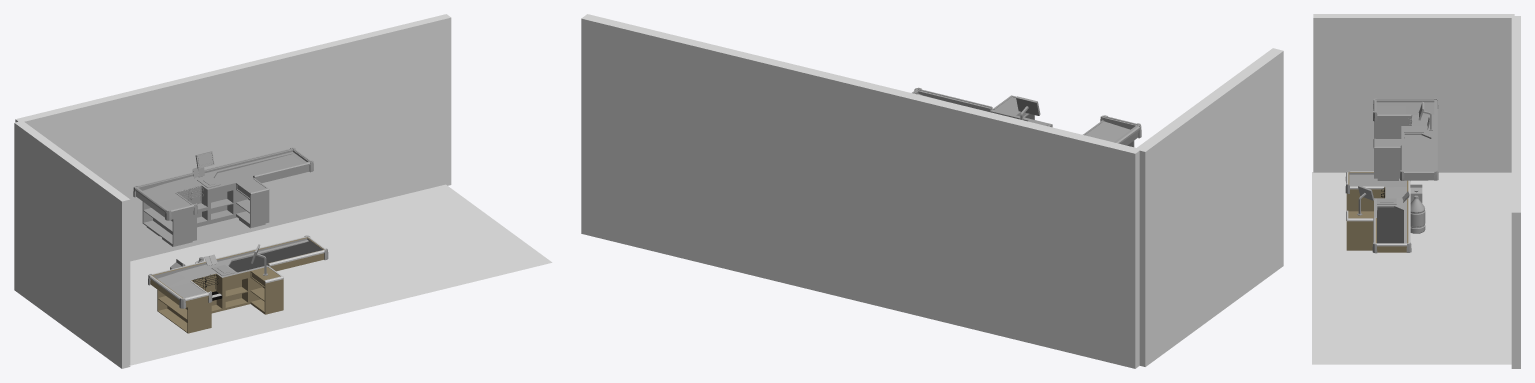
File: counter.fbx
3 renders of one model, left to right at view 1: azimuth 30°, elevation 25°; view 2: azimuth 150°, elevation 25°; view 3: azimuth 270°, elevation 25°, orthographic. The views are drawn at different scales.
Visible parts, largest first — view 1: pCube2, pPlane5, pCube3, pasted__polySurface1, polySurface1; view 2: pCube2, pCube3, pasted__polySurface1; view 3: pPlane5, pCube3, pasted__polySurface1, polySurface1, pCube2, Oil, pasted__corners1, MilkCarton, corners1.
Boxes of the visible parts, bbox=[...] form: pCube2: bbox=[15, 14, 451, 261]; pPlane5: bbox=[129, 184, 552, 365]; pCube3: bbox=[14, 121, 130, 368]; pasted__polySurface1: bbox=[135, 149, 309, 246]; polySurface1: bbox=[150, 237, 324, 333]; pCube2: bbox=[581, 14, 1141, 368]; pCube3: bbox=[1137, 48, 1283, 366]; pasted__polySurface1: bbox=[914, 90, 1138, 147]; pPlane5: bbox=[1312, 172, 1511, 364]; pCube3: bbox=[1313, 14, 1514, 172]; pasted__polySurface1: bbox=[1374, 100, 1436, 180]; polySurface1: bbox=[1346, 172, 1408, 252]; pCube2: bbox=[1511, 16, 1520, 368]; Oil: bbox=[1410, 195, 1425, 233]; pasted__corners1: bbox=[1435, 100, 1437, 171]; MilkCarton: bbox=[1410, 184, 1422, 202]; corners1: bbox=[1408, 180, 1410, 243].
Size of the model in its own units: 51.53 by 19.17 by 22.88.
